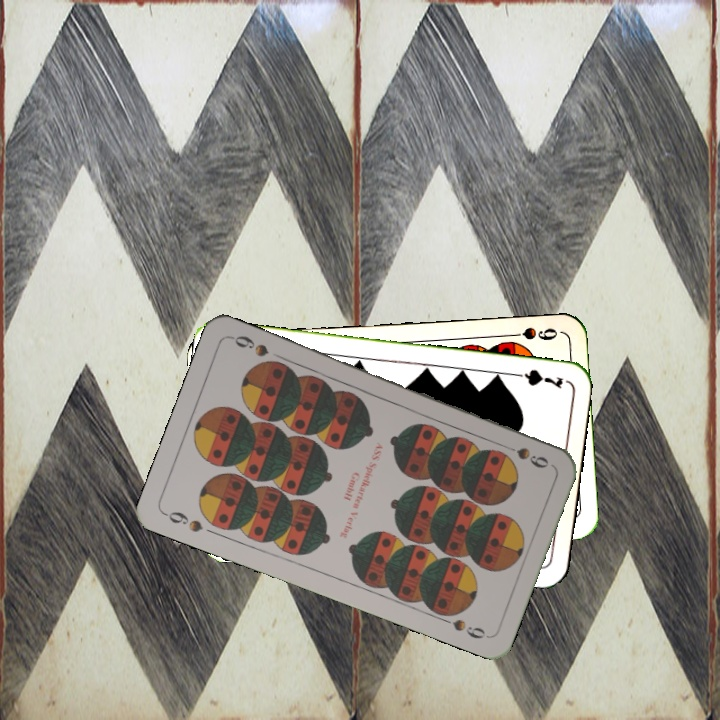G7: (507, 365, 566, 391)
S9: (496, 439, 551, 471), (160, 507, 206, 535), (501, 323, 560, 343)
